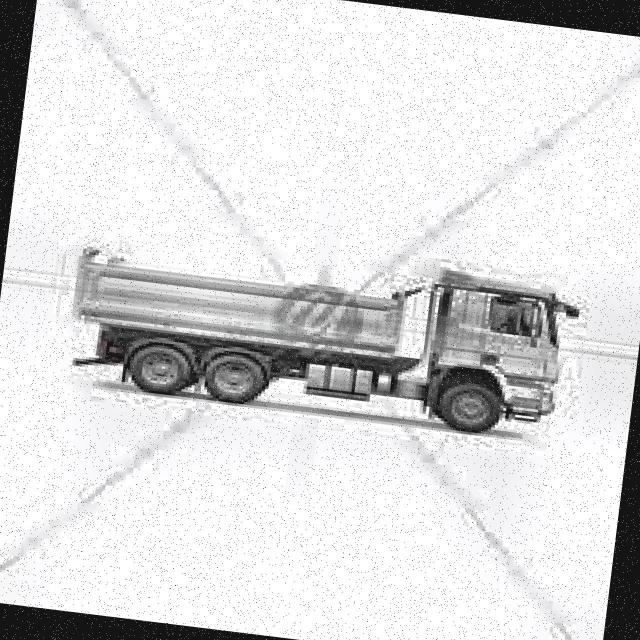dump_truck: (62, 217, 588, 448)
